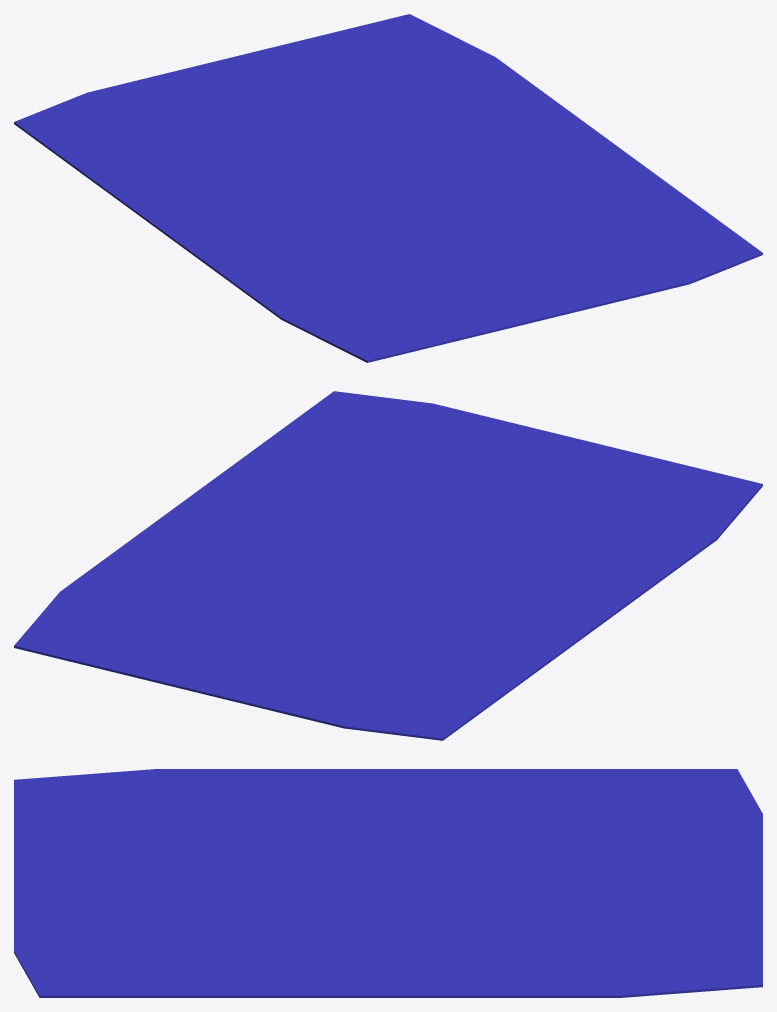
File: Carta_Dorso_Poker_Cartoon.glb
3 views of the same model, one above another, from view 1: azimuth 30°, elevation 25°; view 2: azimuth 150°, elevation 25°; view 3: azimuth 270°, elevation 25° (orthographic). The views are drawn at different scales.
Visible parts, largest first — view 1: Carta_Dorso_Poker_Cartoon; view 2: Carta_Dorso_Poker_Cartoon; view 3: Carta_Dorso_Poker_Cartoon.
Part boxes in pixels (x1,y1,x2,y2): Carta_Dorso_Poker_Cartoon: (14,14,762,362); Carta_Dorso_Poker_Cartoon: (14,391,762,740); Carta_Dorso_Poker_Cartoon: (14,769,762,997).
Size of the model in its own units: 0.063 by 0.0003 by 0.088.
